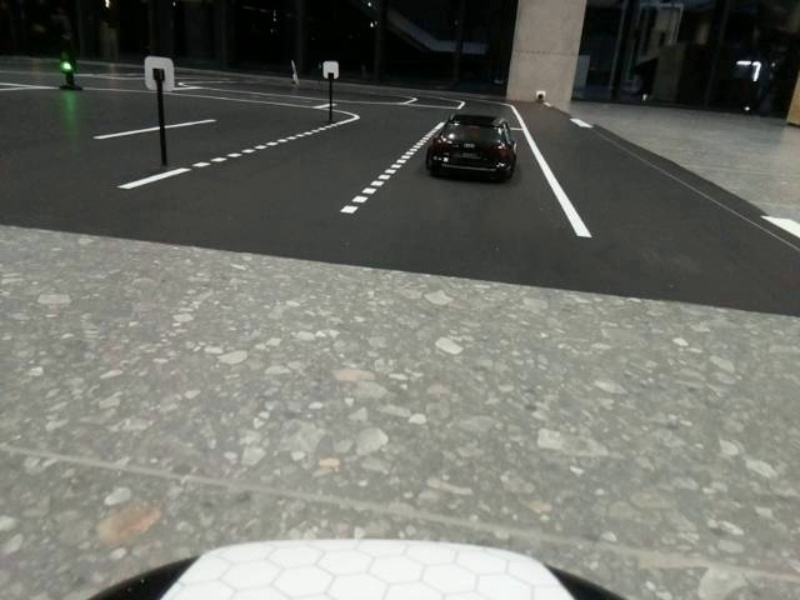car: (432, 110, 529, 192)
